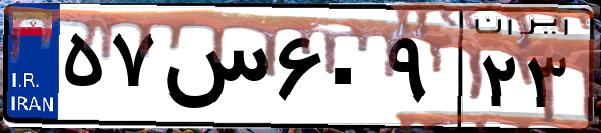0: (330, 28, 385, 110)
2: (475, 38, 525, 113)
3: (525, 38, 570, 115)
5: (57, 26, 110, 100)
6: (270, 28, 330, 110)
7: (110, 28, 158, 98)
9: (385, 28, 445, 110)
س: (158, 20, 270, 120)
